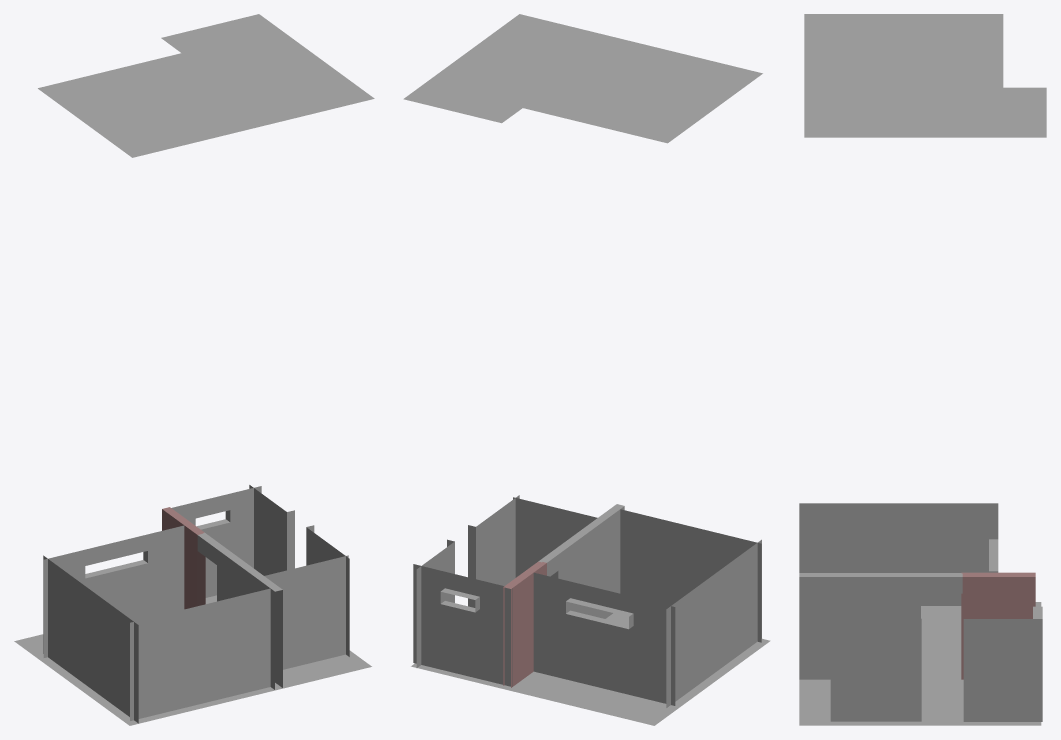
Rendered from Walls.fbx.
3 renders of one model, left to right at view 1: azimuth 30°, elevation 25°; view 2: azimuth 150°, elevation 25°; view 3: azimuth 270°, elevation 25°, orthographic. The views are drawn at different scales.
Visible parts, largest first — view 1: Roof, wall3, wall1, wall2, wall5, floor, wall8, wall4, wall7, wall9, wall6; view 2: Roof, wall2, wall8, wall1, wall3, floor, wall4, wall5, wall6, wall9, wall7; view 3: Roof, wall1, wall6, wall4, wall7, floor, wall9.
Boxes of the visible parts, x1,y1,x2,y2 form: Roof: (38, 14, 374, 157); wall3: (130, 588, 270, 720); wall1: (43, 555, 138, 723); wall2: (43, 525, 184, 657); wall5: (264, 555, 348, 669); floor: (14, 595, 371, 725); wall8: (171, 486, 261, 597); wall4: (197, 532, 282, 689); wall7: (249, 485, 294, 575); wall9: (162, 507, 205, 609); wall6: (306, 525, 349, 656); Roof: (403, 14, 762, 143); wall2: (533, 572, 675, 705); wall8: (413, 564, 512, 686); wall1: (666, 539, 761, 707); wall3: (620, 509, 761, 642); floor: (411, 613, 770, 725); wall4: (538, 504, 624, 618); wall5: (513, 497, 597, 578); wall6: (468, 495, 519, 607); wall9: (503, 561, 546, 687); wall7: (416, 539, 454, 667); Roof: (804, 14, 1046, 137); wall1: (799, 503, 998, 605); wall6: (830, 618, 921, 721); wall4: (799, 573, 962, 679); wall7: (963, 619, 1042, 721); floor: (799, 602, 1041, 725); wall9: (961, 572, 1035, 679).
Bounding box in the file's own units: 631 × 1377 × 522.
